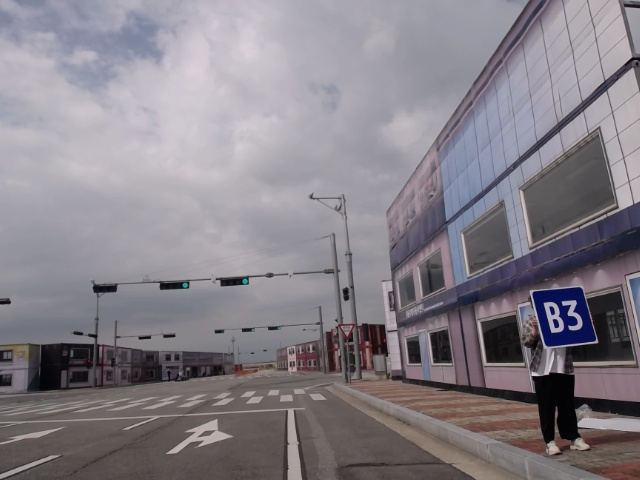delivery_b3: (528, 284, 600, 349)
straight_green_4: (219, 275, 251, 289), (158, 279, 193, 290), (266, 324, 284, 332), (240, 326, 257, 334)
